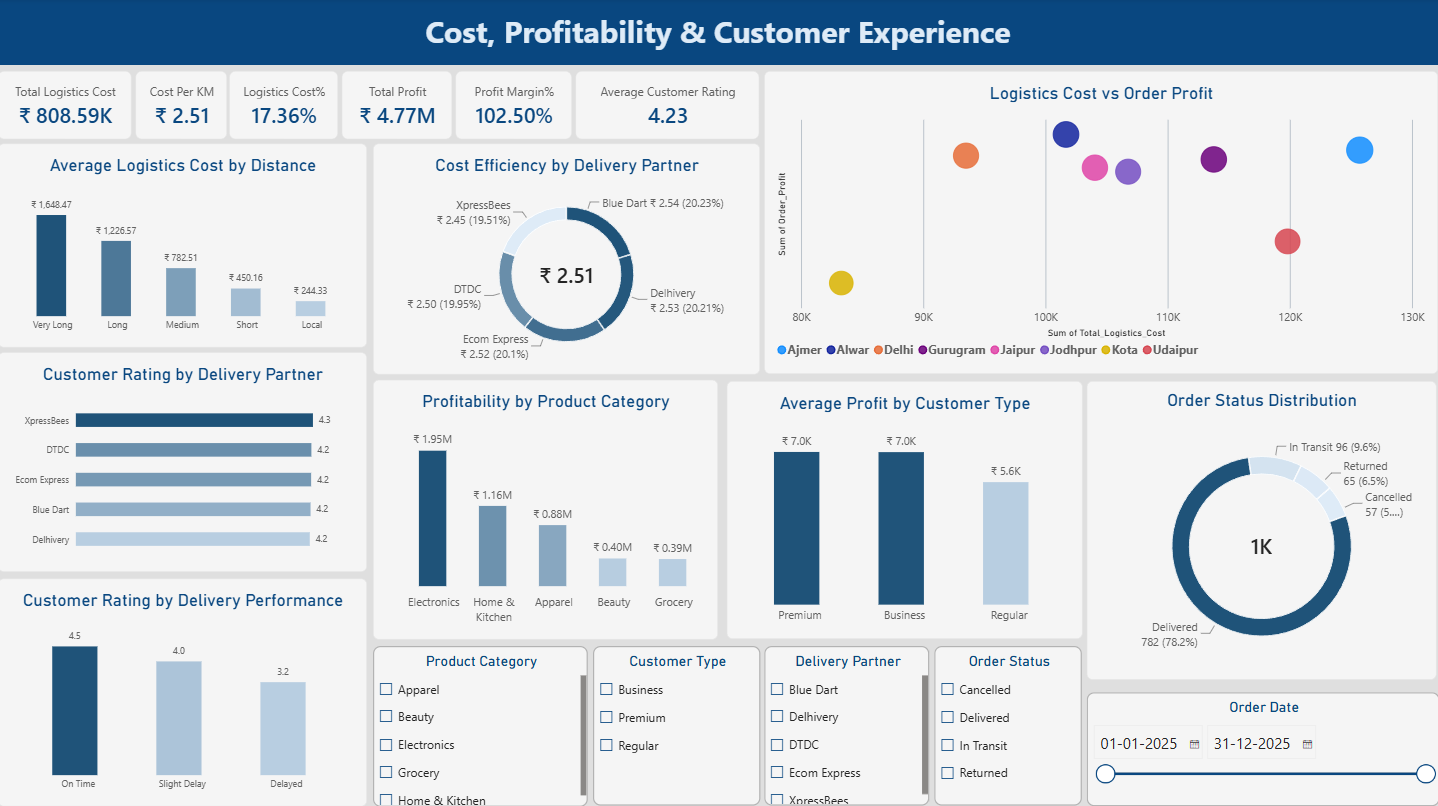

Layout of this report page (visuals, bound fields, positions):
{"tool":"powerbi","page":{"name":"Cost, Profitability & Customer Experience","canvas":[1920,1080],"ordinal":2},"visuals":[{"type":"shape","box":[0,0,1920,92],"z":0},{"type":"cardVisual","fields":{"Data":["Logistics_Data.Total Logistics Cost"]},"box":[0,99.3,178.8,91.2],"z":1000},{"type":"cardVisual","fields":{"Data":["Logistics_Data.Cost Per KM"]},"box":[182.5,99.3,122.5,91.2],"z":2000},{"type":"cardVisual","fields":{"Data":["Logistics_Data.Logistics Cost%"]},"box":[308.8,99.3,145,91.2],"z":3000},{"type":"cardVisual","fields":{"Data":["Logistics_Data.Total Profit"]},"box":[458.8,99.3,147.5,91.2],"z":4000},{"type":"cardVisual","fields":{"Data":["Logistics_Data.Profit Margin%"]},"box":[610,99.3,155,91.2],"z":5000},{"type":"cardVisual","fields":{"Data":["Avg(Logistics_Data.Customer_Rating)"]},"box":[770,99.3,245,91.7],"z":6000},{"type":"columnChart","title":"Average Logistics Cost by Distance","fields":{"Category":["Logistics_Data.Distance_Band"],"Y":["Logistics_Data.Average Logistics Cost"]},"box":[0,196,492,272],"z":7000},{"type":"donutChart","title":"Cost Efficiency by Delivery Partner","fields":{"Category":["Logistics_Data.Delivery_Partner"],"Y":["Logistics_Data.Cost Per KM"]},"box":[500,196,516,308],"z":8000},{"type":"scatterChart","title":"Logistics Cost vs Order Profit","fields":{"Series":["Logistics_Data.Destination_City"],"Size":["Sum(Logistics_Data.Net_Sales)"],"X":["Sum(Logistics_Data.Total_Logistics_Cost)"],"Y":["Sum(Logistics_Data.Order_Profit)"]},"box":[1022,100,898,404],"z":9000},{"type":"columnChart","title":"Profitability by Product Category","fields":{"Category":["Logistics_Data.Product_Category"],"Y":["Logistics_Data.Total Profit"]},"box":[500,512,460,346],"z":10000},{"type":"columnChart","title":"Customer Rating by Delivery Performance","fields":{"Category":["Logistics_Data.Delivery_Performance"],"Y":["Avg(Logistics_Data.Customer_Rating)"]},"box":[0,776,492,304],"z":11000},{"type":"barChart","title":"Customer Rating by Delivery Partner","fields":{"Category":["Logistics_Data.Delivery_Partner"],"Y":["Avg(Logistics_Data.Customer_Rating)"]},"box":[0,475,491.7,292.5],"z":12000},{"type":"donutChart","title":"Order Status Distribution","fields":{"Category":["Logistics_Data.Order_Status"],"Y":["CountNonNull(Logistics_Data.Order_ID)"]},"box":[1452,514,466,398],"z":13000},{"type":"columnChart","title":"Average Profit by Customer Type","fields":{"Category":["Logistics_Data.Customer_Type"],"Y":["Logistics_Data.Average Order Profit"]},"box":[972,514,474,344],"z":14000},{"type":"slicer","title":"Order Date","fields":{"Values":["Logistics_Data.Order_Date"]},"box":[1451.7,928.3,470,151.7],"z":15000},{"type":"slicer","title":"Product Category","fields":{"Values":["Logistics_Data.Product_Category"]},"box":[500,866,286,214],"z":16000},{"type":"slicer","title":"Customer Type","fields":{"Values":["Logistics_Data.Customer_Type"]},"box":[793,866,223,213],"z":17000},{"type":"slicer","title":"Delivery Partner","fields":{"Values":["Logistics_Data.Delivery_Partner"]},"box":[1022,866,220,213],"z":18000},{"type":"slicer","title":"Order Status","fields":{"Values":["Logistics_Data.Order_Status"]},"box":[1249,867,197,213],"z":19000}]}

Visuals, with their boxes in screenshot pixels (x1, y1, x2, y2), scaled from the page's 1920x1080 canvas onto the 1438x806 screenshot:
shape: bbox=(0, 0, 1437, 69)
cardVisual - Logistics_Data.Total Logistics Cost: bbox=(0, 74, 134, 142)
cardVisual - Logistics_Data.Cost Per KM: bbox=(137, 74, 228, 142)
cardVisual - Logistics_Data.Logistics Cost%: bbox=(231, 74, 340, 142)
cardVisual - Logistics_Data.Total Profit: bbox=(344, 74, 454, 142)
cardVisual - Logistics_Data.Profit Margin%: bbox=(457, 74, 573, 142)
cardVisual - Avg(Logistics_Data.Customer_Rating): bbox=(577, 74, 760, 143)
"Average Logistics Cost by Distance" columnChart: bbox=(0, 146, 368, 349)
"Cost Efficiency by Delivery Partner" donutChart: bbox=(374, 146, 761, 376)
"Logistics Cost vs Order Profit" scatterChart: bbox=(765, 75, 1437, 376)
"Profitability by Product Category" columnChart: bbox=(374, 382, 719, 640)
"Customer Rating by Delivery Performance" columnChart: bbox=(0, 579, 368, 805)
"Customer Rating by Delivery Partner" barChart: bbox=(0, 354, 368, 573)
"Order Status Distribution" donutChart: bbox=(1087, 384, 1437, 681)
"Average Profit by Customer Type" columnChart: bbox=(728, 384, 1083, 640)
"Order Date" slicer: bbox=(1087, 693, 1437, 805)
"Product Category" slicer: bbox=(374, 646, 589, 805)
"Customer Type" slicer: bbox=(594, 646, 761, 805)
"Delivery Partner" slicer: bbox=(765, 646, 930, 805)
"Order Status" slicer: bbox=(935, 647, 1083, 805)
